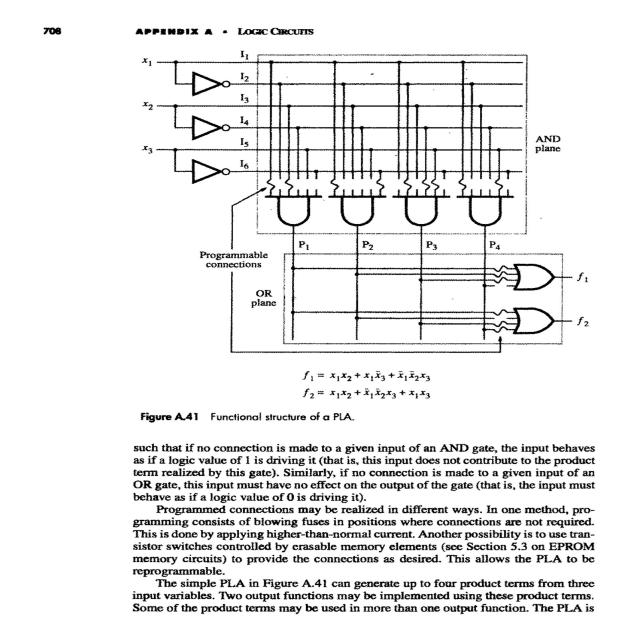diagram: (93, 39, 639, 434)
